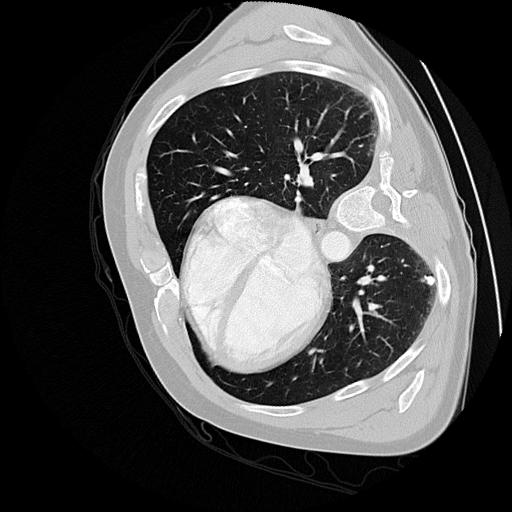nodule: (421, 271, 438, 288)
